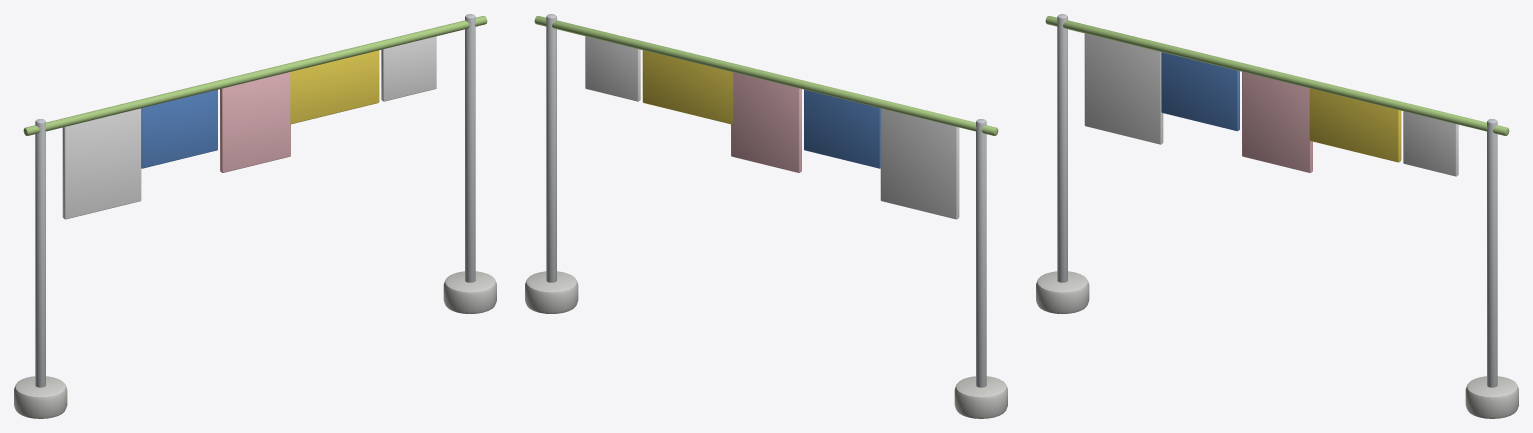
File: monohoshi.glb
3 views of the same model, side by side, from view 1: azimuth 30°, elevation 25°; view 2: azimuth 150°, elevation 25°; view 3: azimuth 330°, elevation 25° (orthographic).
Visible parts, largest first — view 1: monohoshi; view 2: monohoshi; view 3: monohoshi.
Part boxes in pixels (left/top/right/bottom): monohoshi: left=14, top=14, right=496, bottom=418; monohoshi: left=525, top=14, right=1007, bottom=418; monohoshi: left=1036, top=14, right=1518, bottom=418.
Bounding box in the file's own units: 3.1 × 1.8 × 0.3.
